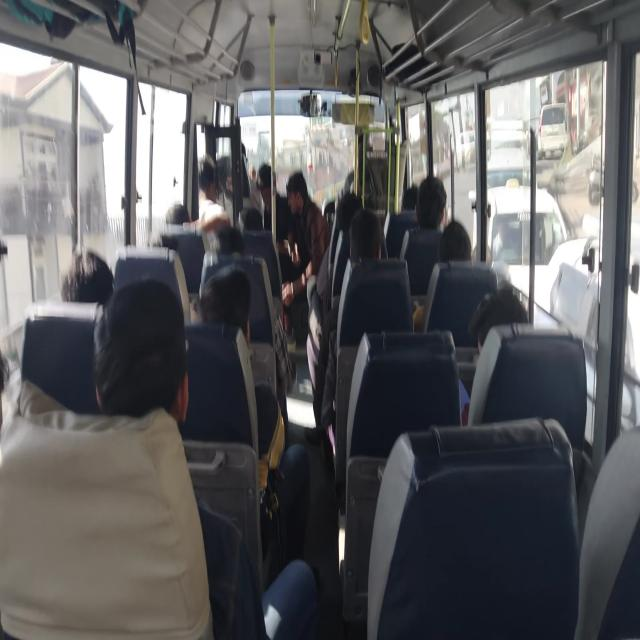person: (89, 271, 195, 431), (469, 278, 532, 352), (192, 260, 253, 336), (58, 241, 115, 311), (346, 205, 388, 266), (434, 214, 474, 265), (418, 175, 451, 229), (213, 218, 246, 267), (163, 187, 194, 239), (280, 165, 310, 217), (197, 147, 220, 210), (236, 194, 268, 238), (348, 109, 376, 159), (329, 186, 369, 216), (150, 227, 184, 259), (400, 181, 424, 211), (236, 132, 252, 170), (261, 160, 274, 197)
